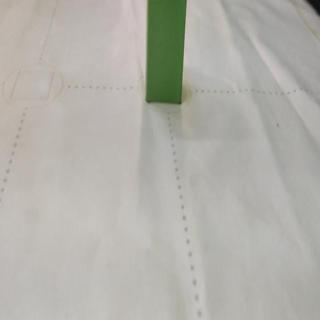greenbox: (145, 0, 188, 107)
